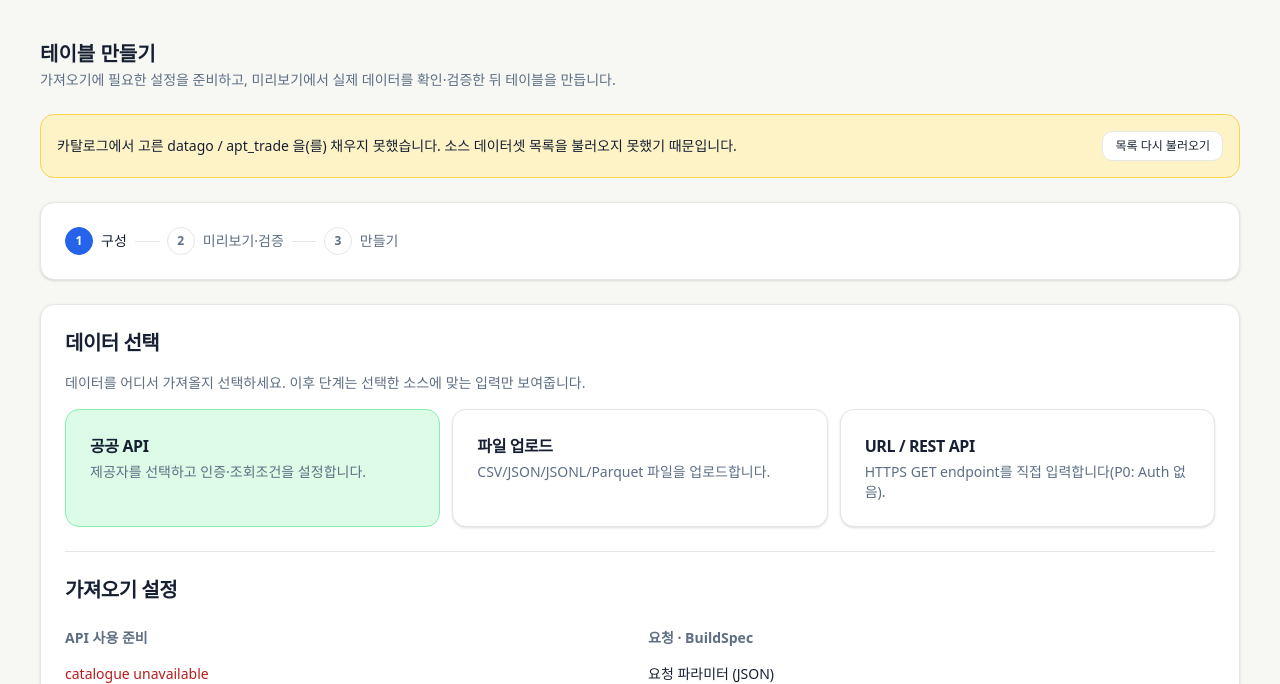
Test: Create Table — coming from the Catalog (#842) › keeps the public API chosen when the catalogue fails to load, and fills the dataset in once it loads
Check: the text "datago / apt_trade 을(를) 채우지 못했습니다" is shown, box [57,136,737,155]
What coordinates should you click on to do the following:
click the button "목록 다시 불러오기"
I would click on:
 (1163, 146)
Its box is [1102,131,1223,161].
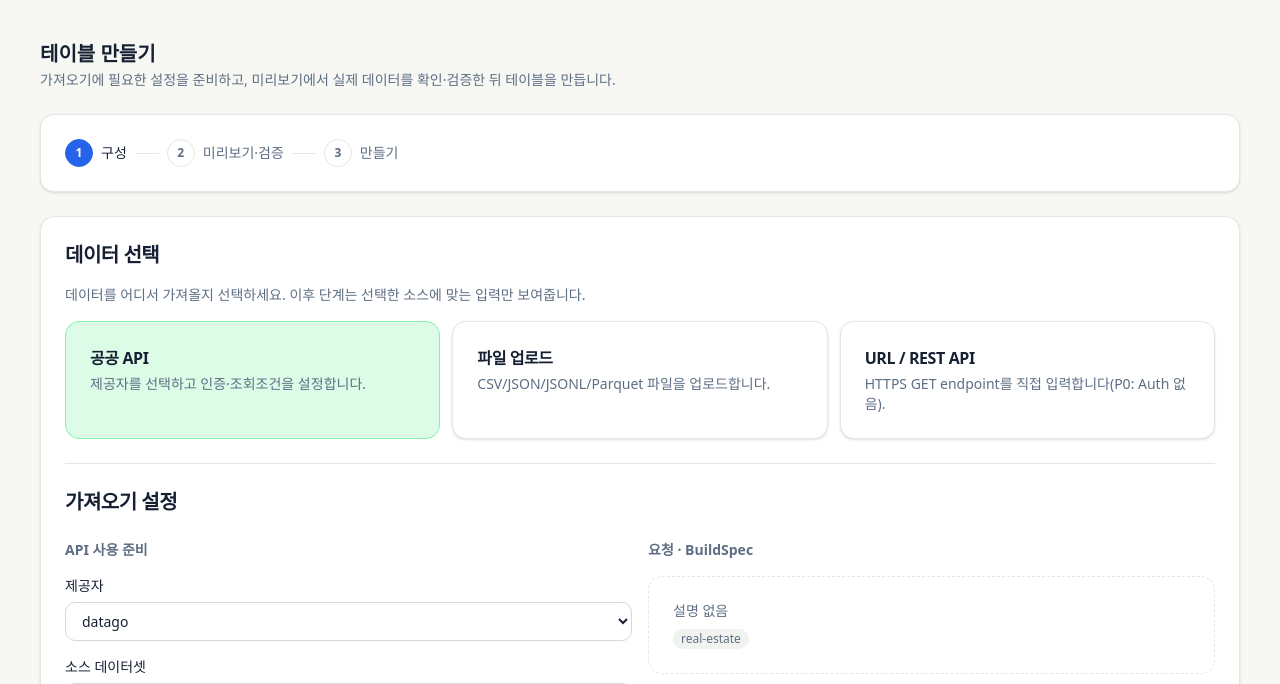
Check: the dropdown labelled "제공자" shows "datago", box [65,602,632,641]
